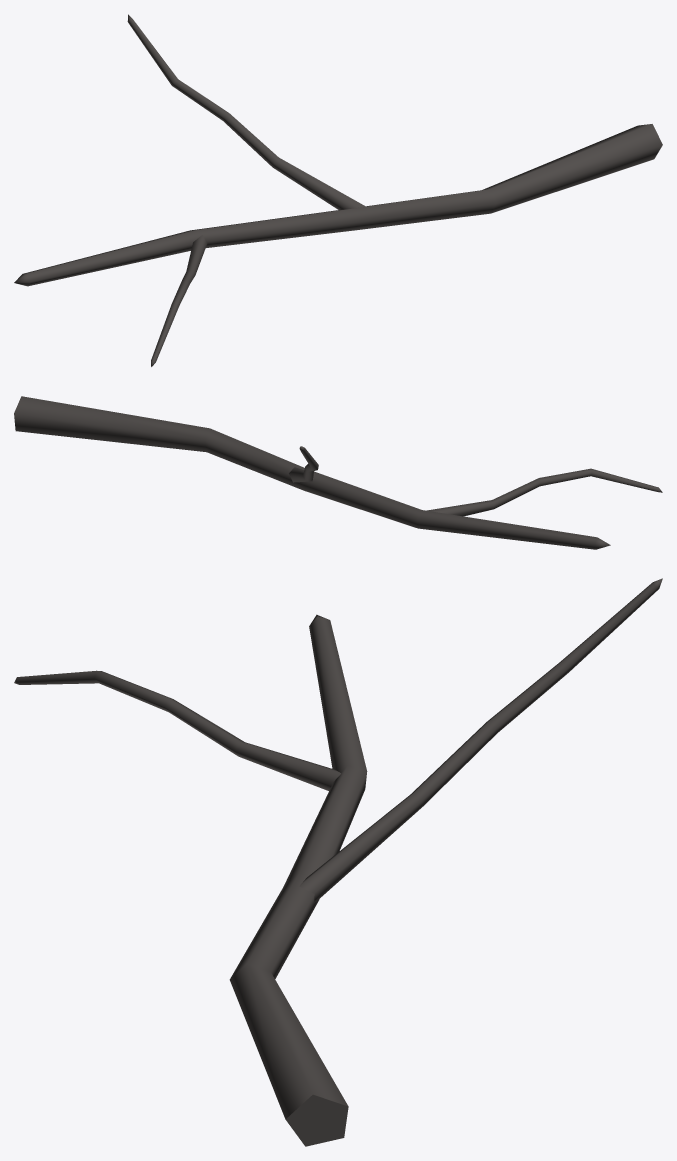
File: P_branch_dead_06_LD.fbx
3 views of the same model, one above another, from view 1: azimuth 30°, elevation 25°; view 2: azimuth 150°, elevation 25°; view 3: azimuth 270°, elevation 25° (orthographic). The views are drawn at different scales.
Visible parts, largest first — view 1: P_branch_dead_06; view 2: P_branch_dead_06; view 3: P_branch_dead_06.
Boxes of the visible parts, bbox=[...] form: P_branch_dead_06: bbox=[14, 14, 662, 366]; P_branch_dead_06: bbox=[14, 396, 662, 549]; P_branch_dead_06: bbox=[14, 578, 662, 1146].
Size of the model in its own units: 81.75 by 19.8 by 45.91.
